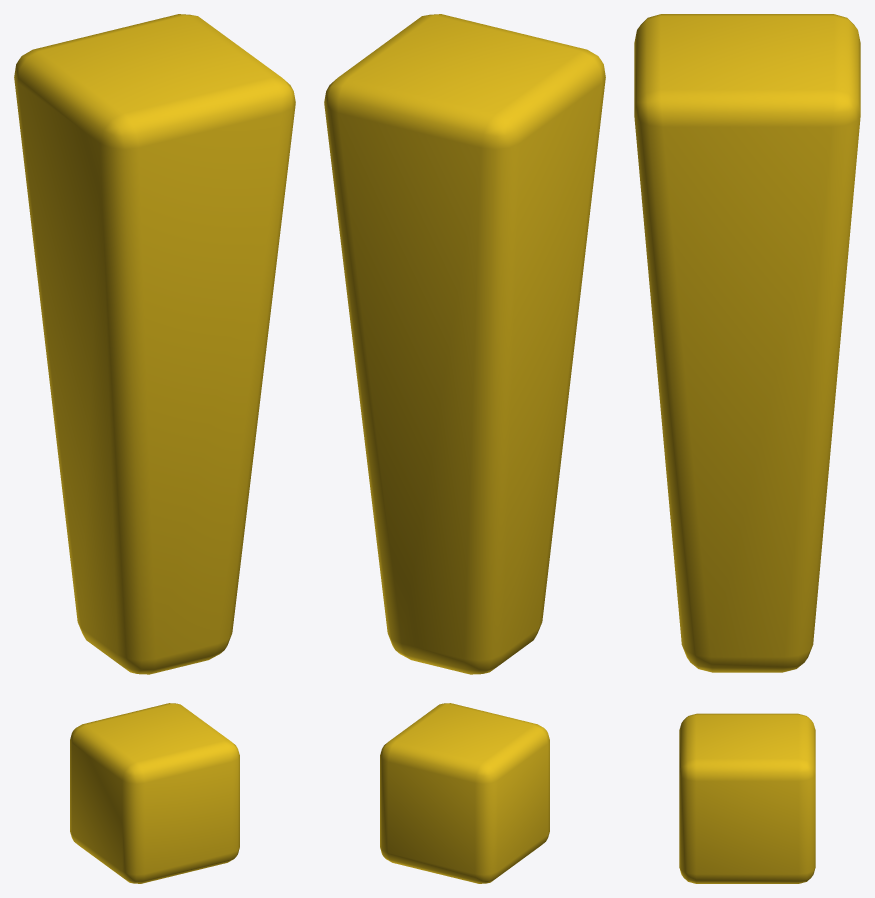
3 renders of one model, left to right at view 1: azimuth 30°, elevation 25°; view 2: azimuth 150°, elevation 25°; view 3: azimuth 270°, elevation 25°, orthographic. The views are drawn at different scales.
Visible parts, largest first — view 1: Cube, Cube.001; view 2: Cube, Cube.001; view 3: Cube, Cube.001.
Part boxes in pixels (x1,y1,x2,y2): Cube: (14,14,295,674); Cube.001: (70,703,239,883); Cube: (324,14,605,674); Cube.001: (380,703,549,883); Cube: (634,14,860,672); Cube.001: (679,713,815,883).
Size of the model in its own units: 0.0558 by 0.2195 by 0.0558.
